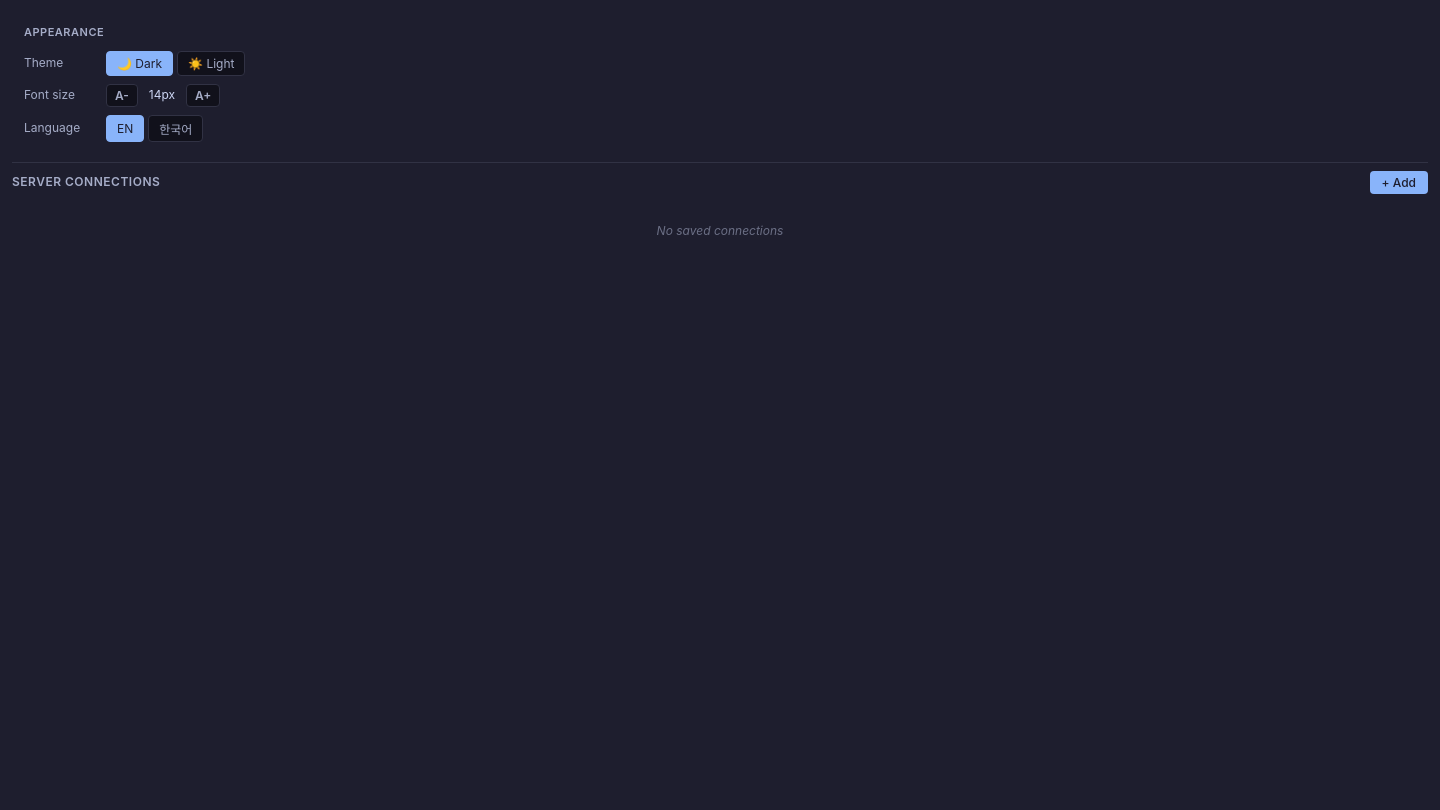
it: ServerSettings › shows form connection test failure and uses default port for invalid input
The width and height of the screenshot is (1440, 810).
Click the button "+ Add" at (1399, 182), box [1370, 170, 1428, 194]
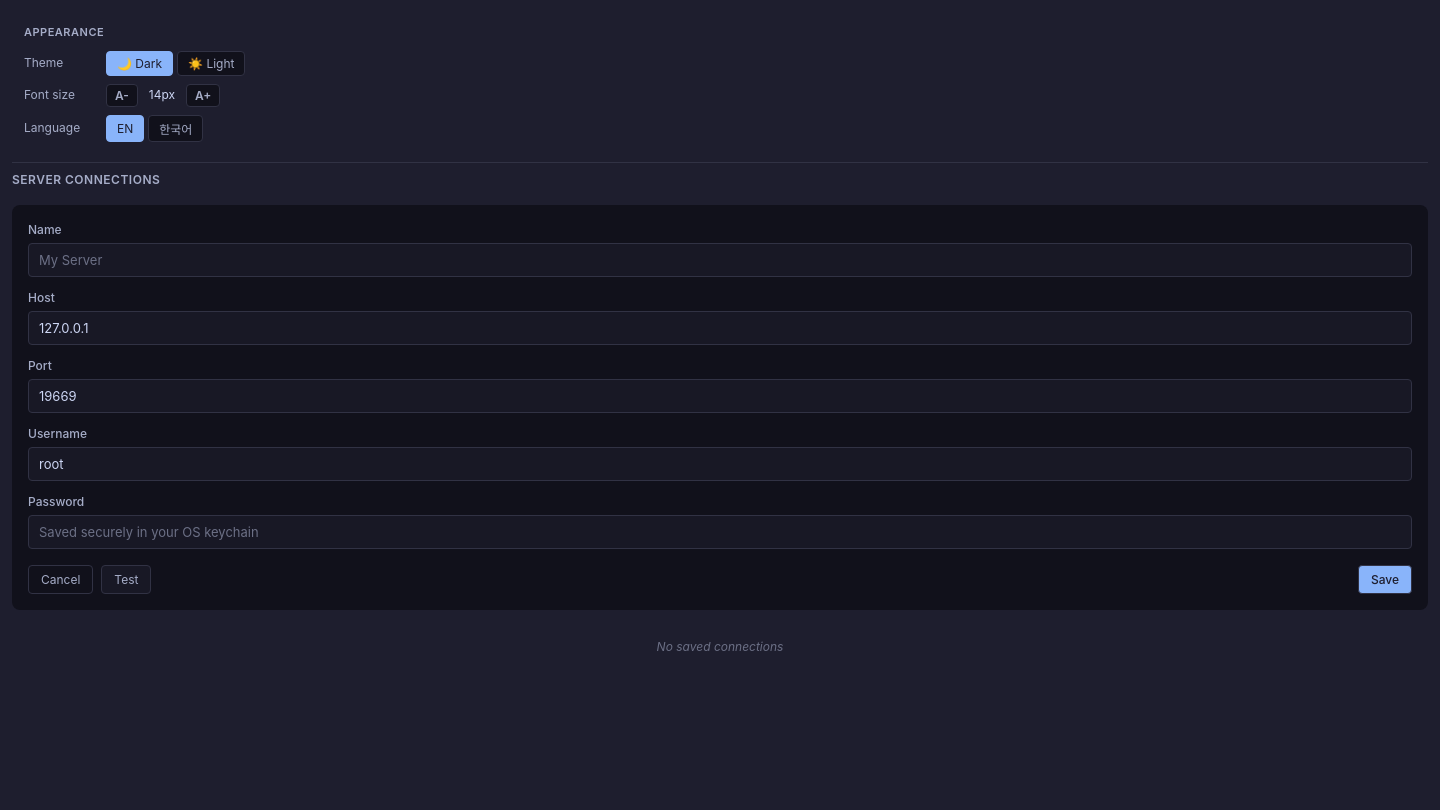
Type "abc" into the number field with placeholder "19669" at (720, 396), box [28, 378, 1412, 412]
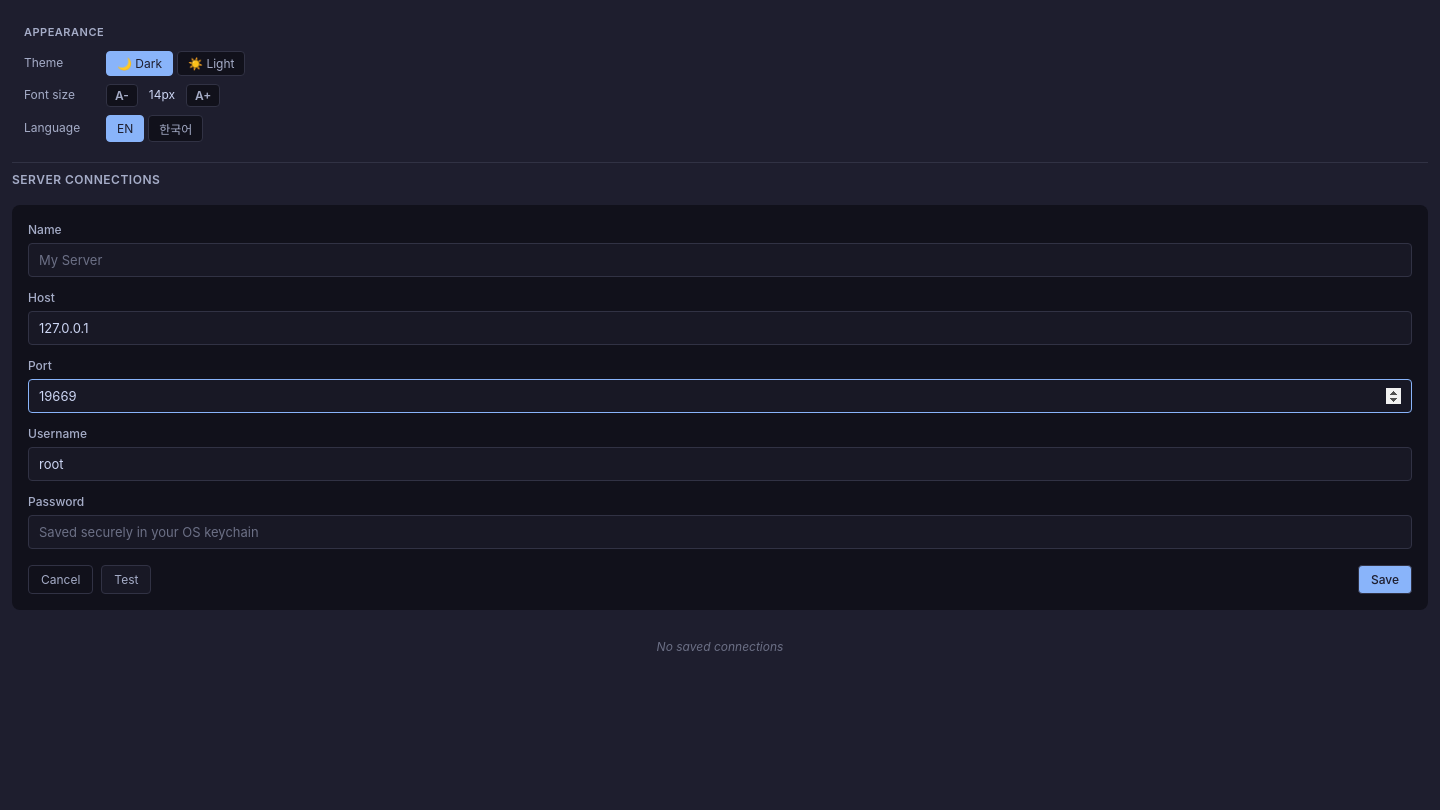
Click the button "Test" at (126, 579), box [101, 564, 152, 594]
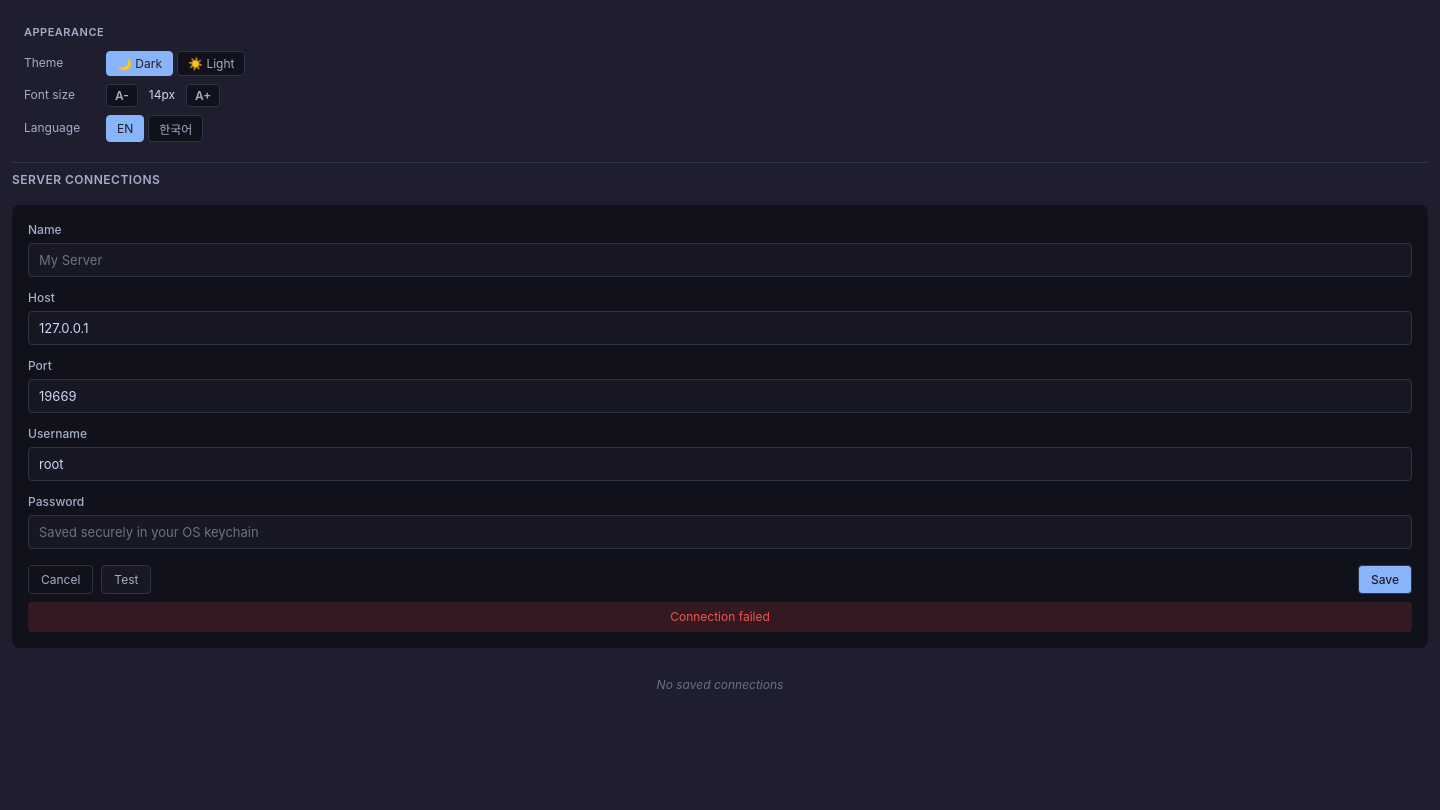
Now the text "Connection failed" is shown, box [28, 602, 1412, 632]
